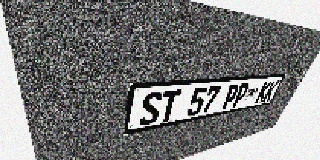5: (186, 87, 208, 117)
7: (200, 86, 222, 114)
K: (254, 81, 273, 103), (262, 80, 280, 102)
P: (220, 84, 241, 110), (231, 83, 251, 108)
S: (139, 91, 163, 126)
T: (158, 90, 182, 123)
